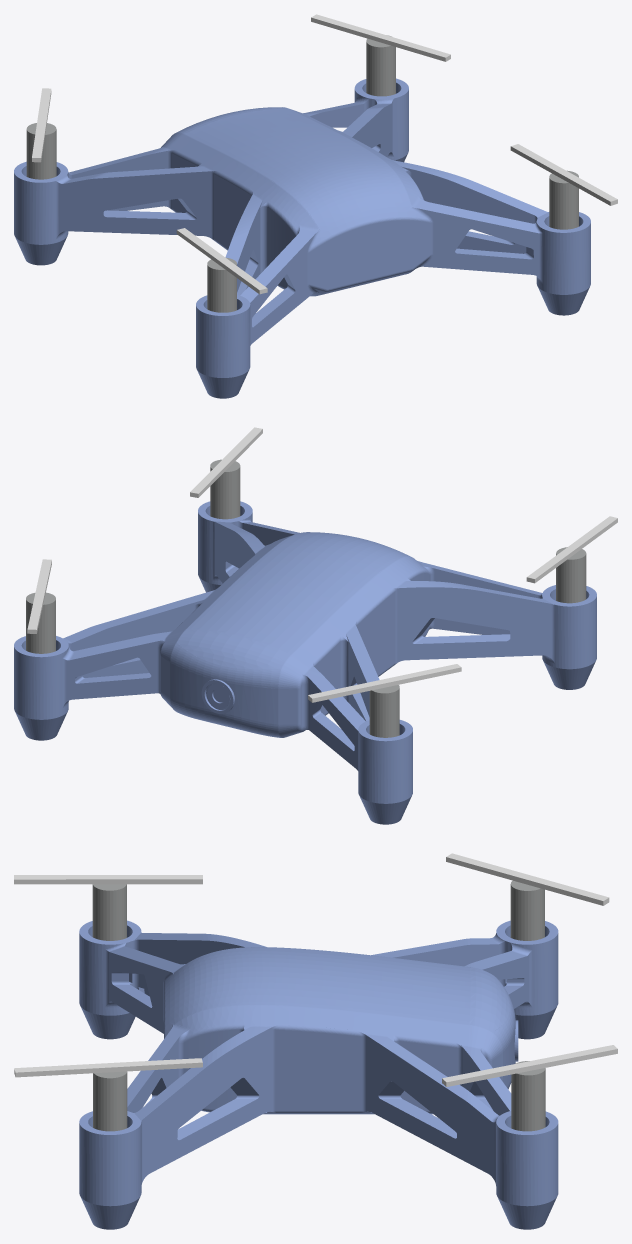
Rendered from tello.dae.
The picture shows the model from 3 angles, top to bottom: view 1: azimuth 30°, elevation 25°; view 2: azimuth 150°, elevation 25°; view 3: azimuth 270°, elevation 25°; orthographic projection. The views are drawn at different scales.
Visible parts, largest first — view 1: tello_v2, Cylinder.001, Cylinder, Cylinder.002, Cylinder.003, Cube.001, Cube, Cube.003, Cube.002; view 2: tello_v2, Cylinder.003, Cylinder, Cylinder.002, Cube.002, Cylinder.001, Cube.003, Cube, Cube.001; view 3: tello_v2, Cylinder.001, Cylinder, Cylinder.002, Cylinder.003, Cube.003, Cube, Cube.001, Cube.002.
Boxes of the visible parts, bbox=[...] form: tello_v2: bbox=[14, 78, 590, 398]; Cylinder.001: bbox=[366, 35, 395, 96]; Cylinder: bbox=[549, 170, 578, 229]; Cylinder.002: bbox=[207, 257, 236, 312]; Cylinder.003: bbox=[26, 123, 56, 179]; Cube.001: bbox=[311, 14, 450, 61]; Cube: bbox=[510, 144, 617, 205]; Cube.003: bbox=[176, 228, 267, 294]; Cube.002: bbox=[32, 88, 51, 162]; tello_v2: bbox=[14, 501, 596, 824]; Cylinder.003: bbox=[369, 685, 399, 737]; Cylinder: bbox=[210, 459, 240, 519]; Cylinder.002: bbox=[556, 547, 586, 603]; Cube.002: bbox=[308, 664, 461, 702]; Cylinder.001: bbox=[26, 592, 55, 653]; Cube.003: bbox=[526, 516, 617, 583]; Cube: bbox=[190, 427, 262, 497]; Cube.001: bbox=[27, 559, 51, 633]; tello_v2: bbox=[79, 920, 558, 1229]; Cylinder.001: bbox=[511, 1061, 545, 1131]; Cylinder: bbox=[93, 1071, 127, 1131]; Cylinder.002: bbox=[92, 884, 126, 940]; Cylinder.003: bbox=[510, 880, 544, 940]; Cube.003: bbox=[14, 875, 202, 884]; Cube: bbox=[14, 1058, 202, 1077]; Cube.001: bbox=[442, 1045, 617, 1086]; Cube.002: bbox=[446, 853, 609, 905].
Bounding box in the file's own units: 0.2072 × 0.227 × 0.0658.
